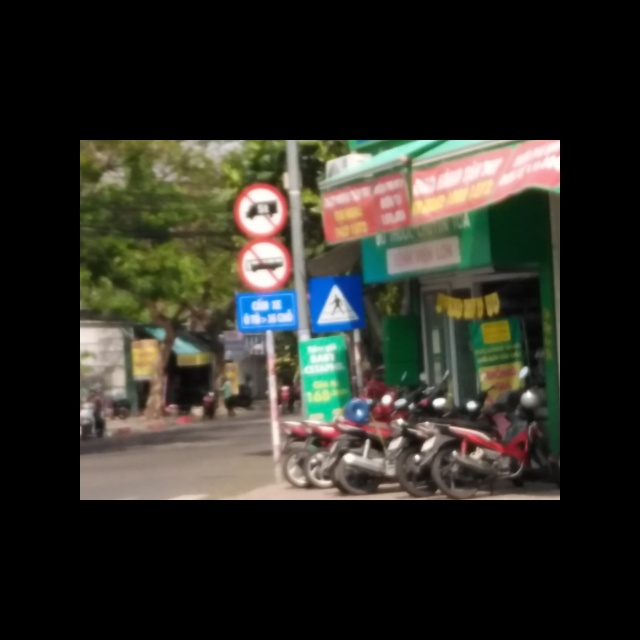Cấm xe tải: (232, 180, 288, 237)
Cấm xe xe khách: (237, 239, 292, 292)
Đường dành cho người đi bộ: (306, 275, 365, 333)
